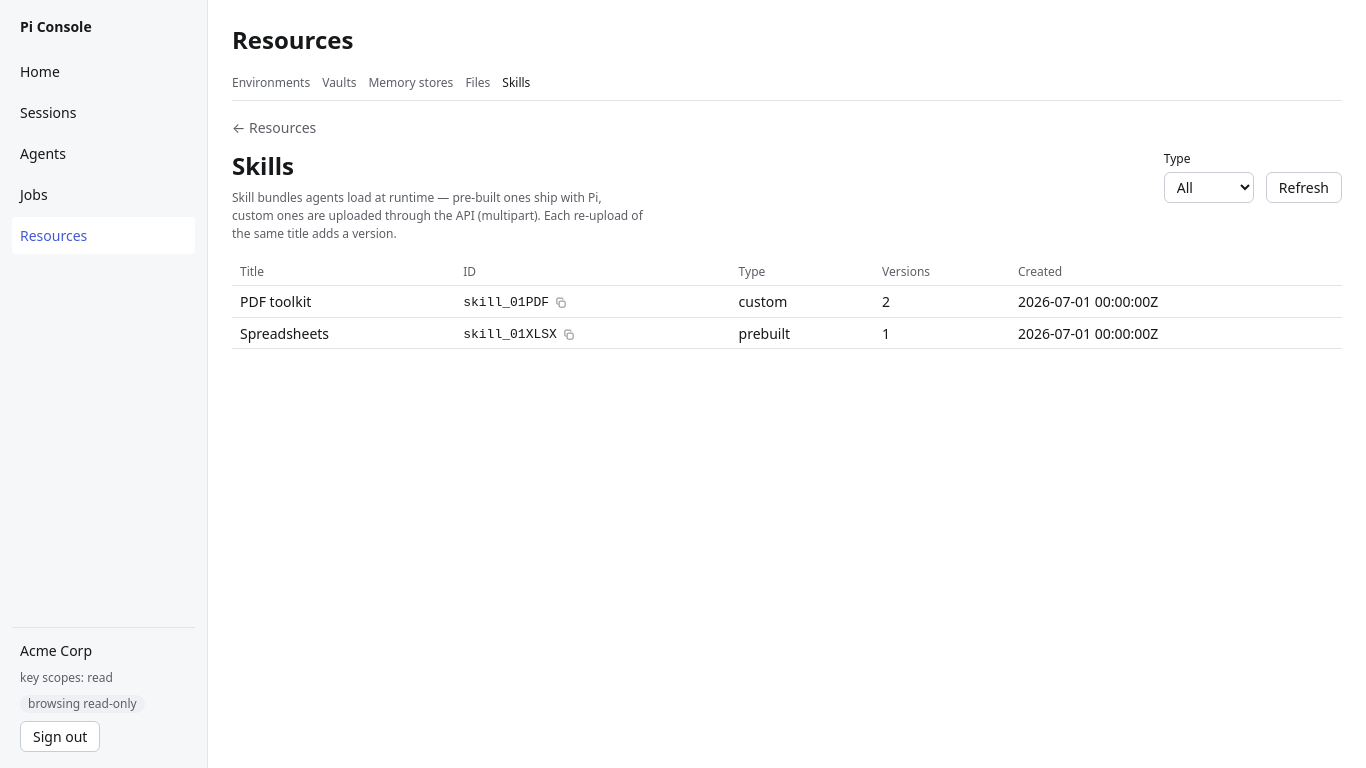
Test case: skills (§9.5) › lists skills and narrows by ?type= server-side
Check: the text "PDF toolkit" is shown, box top-left (232, 286), bottom-right (455, 317)
Check: the text "Spreadsheets" is shown, box top-left (232, 317), bottom-right (455, 349)
Select "custom" in the dropdown labelled "Type" at (1209, 188), box top-left (1164, 172), bottom-right (1254, 203)
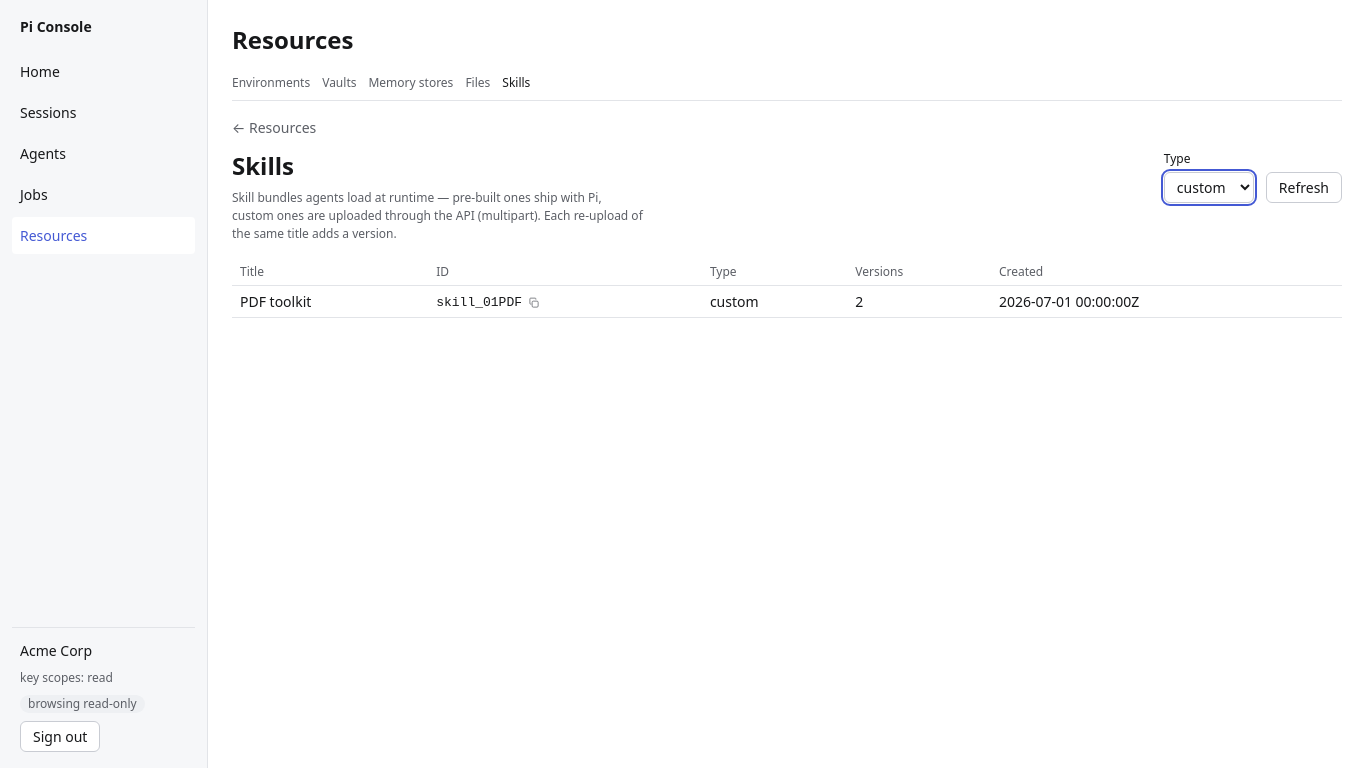
Check: the text "Spreadsheets" is gone
